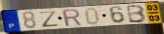0: (84, 7, 102, 26)
6: (109, 6, 126, 24)
8: (21, 11, 38, 30)
B: (126, 3, 148, 23)
R: (61, 8, 84, 28)
Z: (38, 10, 60, 28)
